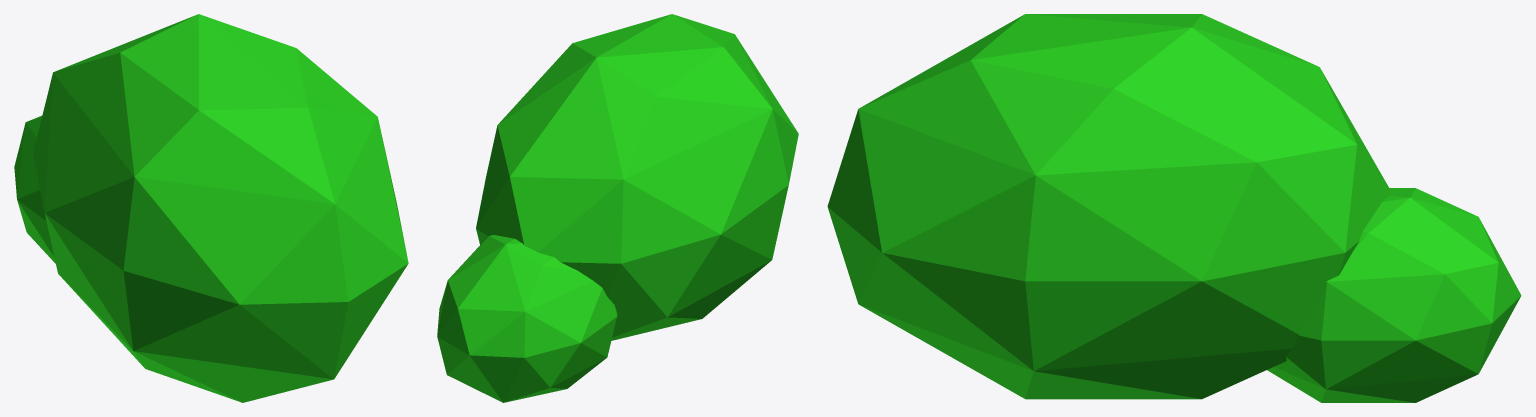
The model's file is bush.fbx.
The picture shows the model from 3 angles, left to right: view 1: azimuth 30°, elevation 25°; view 2: azimuth 150°, elevation 25°; view 3: azimuth 270°, elevation 25°; orthographic projection. The views are drawn at different scales.
Visible parts, largest first — view 1: Icosphere; view 2: Icosphere; view 3: Icosphere.
Boxes of the visible parts, x1,y1,x2,y2 form: Icosphere: (14,14,408,402); Icosphere: (437,14,798,402); Icosphere: (827,14,1521,402).
Size of the model in its own units: 323 by 375 by 634.
